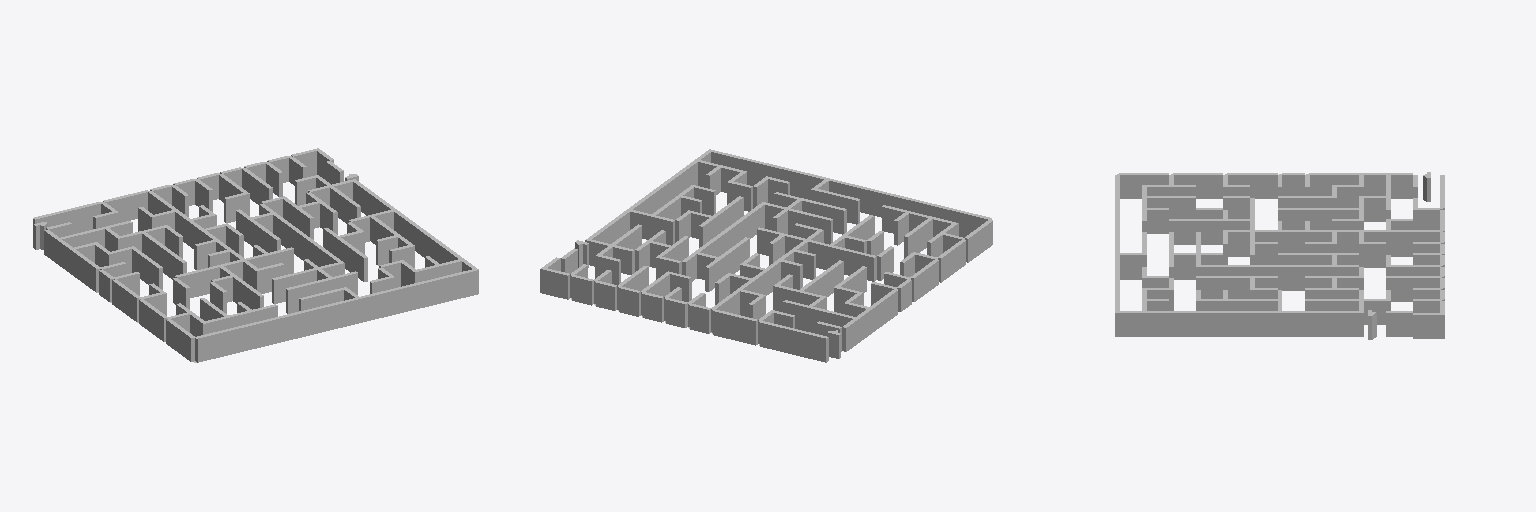
File: maze_interm_1.obj
3 renders of one model, left to right at view 1: azimuth 30°, elevation 25°; view 2: azimuth 150°, elevation 25°; view 3: azimuth 270°, elevation 25°, orthographic.
Parts seen in each view (by area): view 1: Curve.017_Mesh.007; view 2: Curve.017_Mesh.007; view 3: Curve.017_Mesh.007.
Part boxes in pixels (left/top/right/bottom): Curve.017_Mesh.007: left=33, top=148, right=478, bottom=362; Curve.017_Mesh.007: left=540, top=149, right=992, bottom=362; Curve.017_Mesh.007: left=1115, top=172, right=1444, bottom=339.
Size of the model in its own units: 14.11 by 1.11 by 13.74.